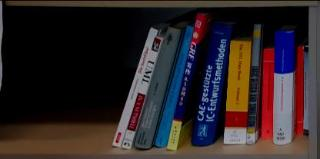book-spine: (134, 24, 183, 151), (111, 27, 160, 149), (190, 21, 234, 148), (166, 12, 205, 153), (154, 22, 195, 150), (121, 36, 161, 150), (223, 40, 253, 145), (273, 29, 294, 146), (246, 23, 262, 145), (261, 49, 275, 141), (297, 46, 304, 134), (303, 47, 309, 135)
